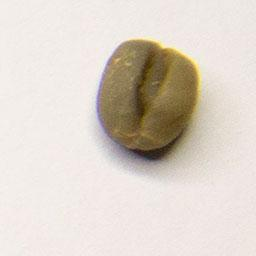peaberry: (94, 35, 201, 155)
